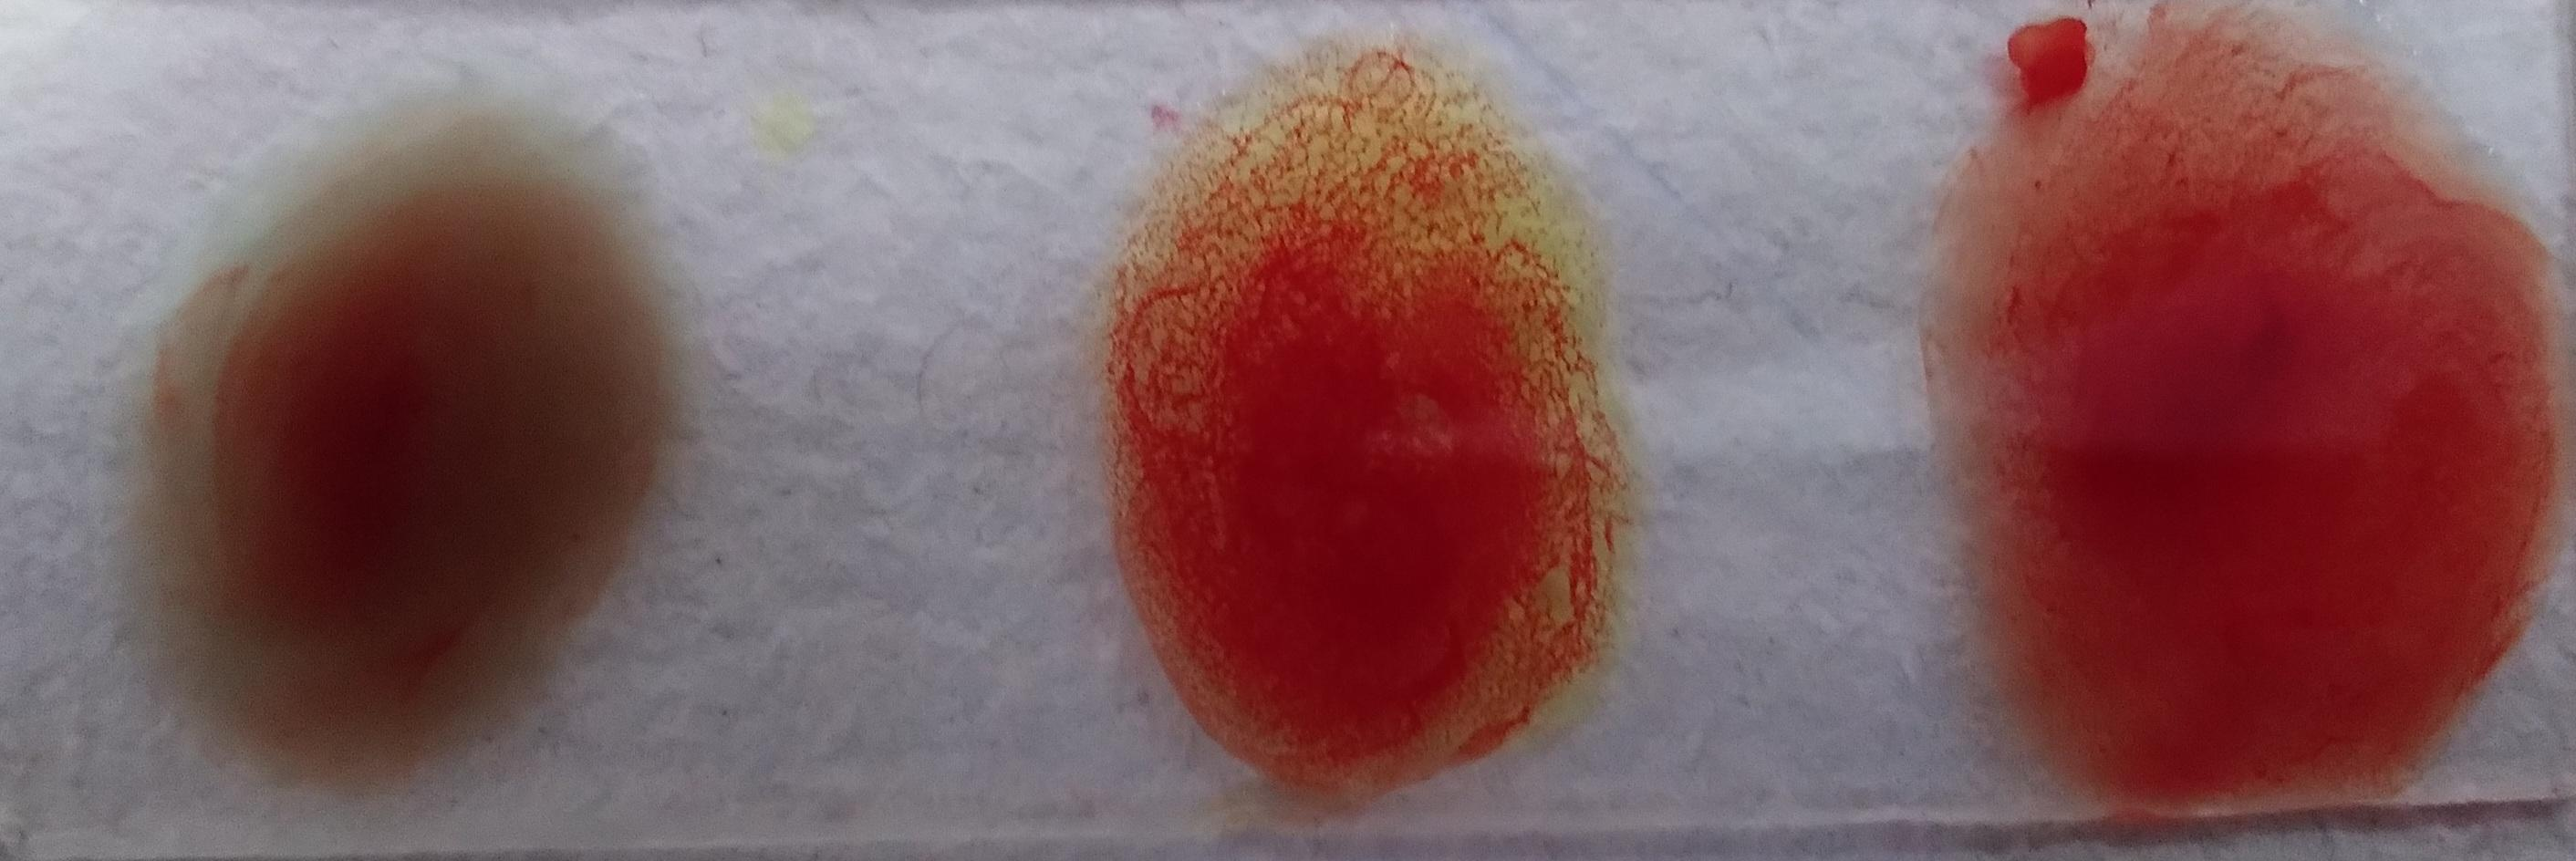B: (971, 58, 1497, 817)
D: (69, 58, 652, 805)
